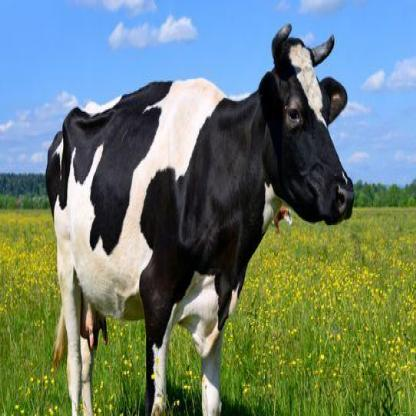cow: (44, 23, 354, 416)
